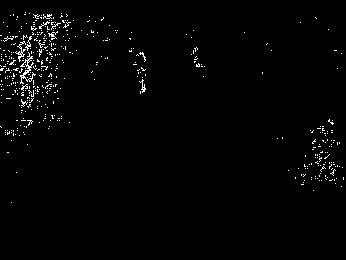person: (134, 47, 154, 95)
